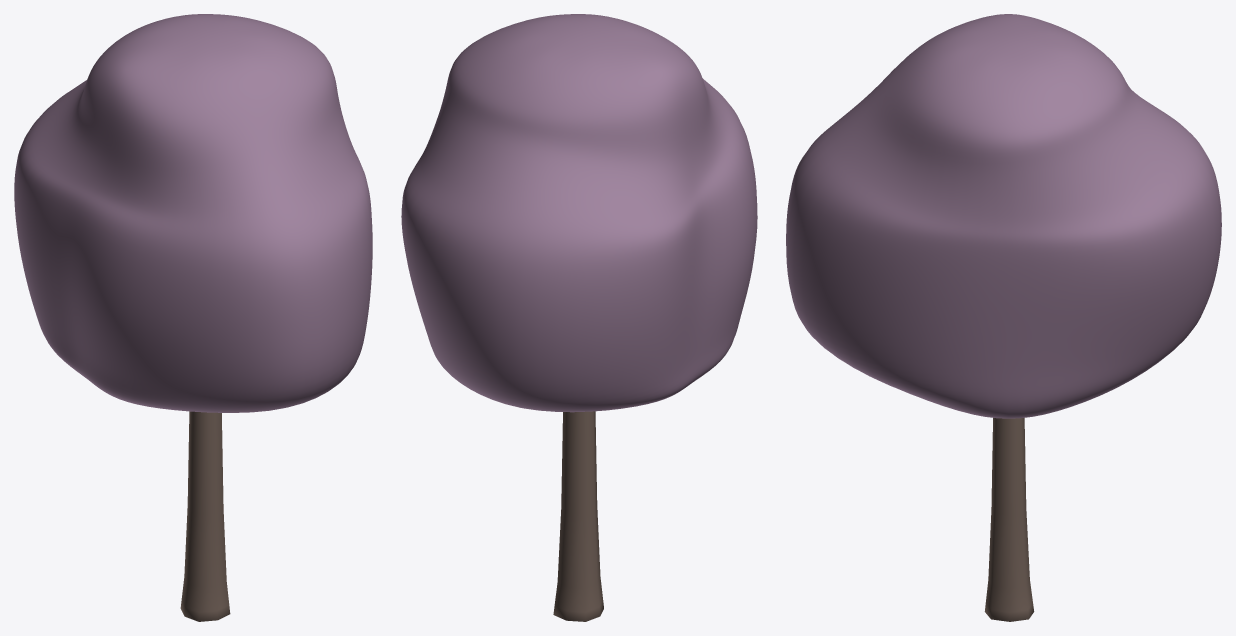
The model's file is Tree_Round_Large_Pink.fbx.
The picture shows the model from 3 angles, left to right: view 1: azimuth 30°, elevation 25°; view 2: azimuth 150°, elevation 25°; view 3: azimuth 270°, elevation 25°; orthographic projection.
Parts seen in each view (by area): view 1: Leaves, Trunk; view 2: Leaves, Trunk; view 3: Leaves, Trunk.
Part boxes in pixels (x1=…): Leaves: x1=14, y1=14, x2=372, y2=412; Trunk: x1=180, y1=411, x2=230, y2=621; Leaves: x1=401, y1=14, x2=757, y2=412; Trunk: x1=553, y1=411, x2=603, y2=621; Leaves: x1=786, y1=14, x2=1221, y2=418; Trunk: x1=984, y1=418, x2=1034, y2=621.
Size of the model in its own units: 0.8896 by 1.81 by 1.25.
